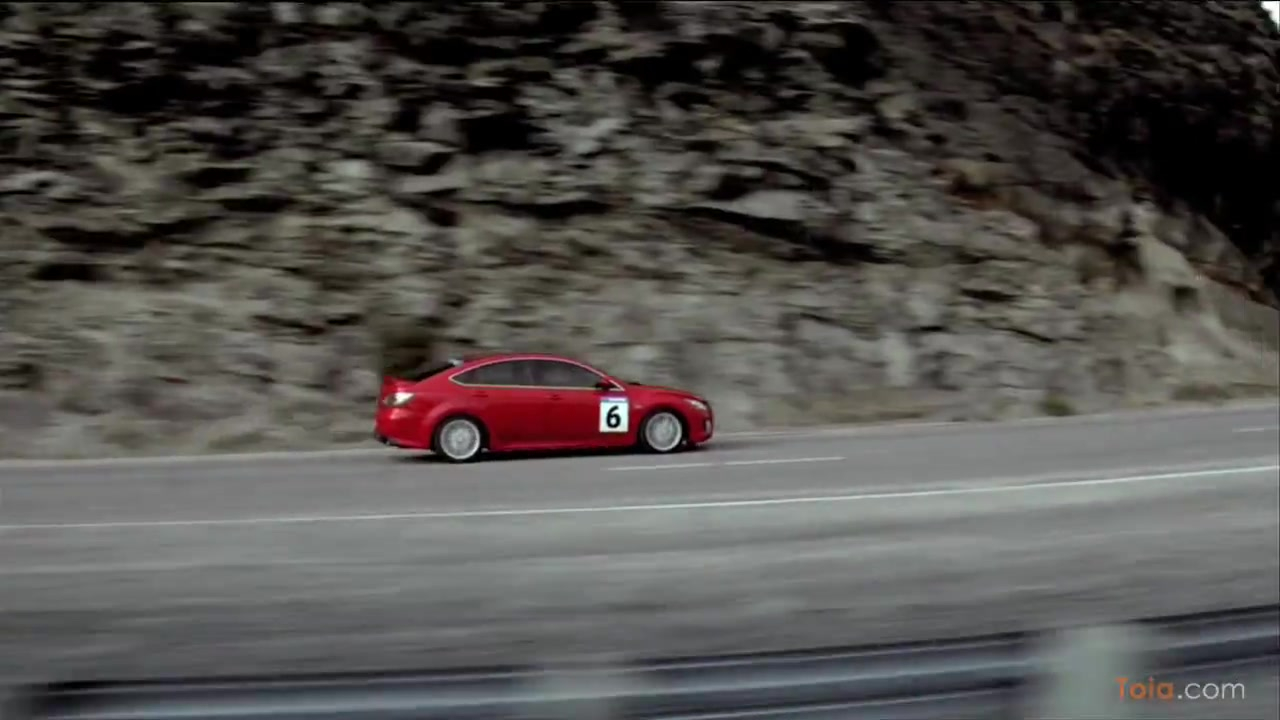car: (374, 346, 720, 466)
